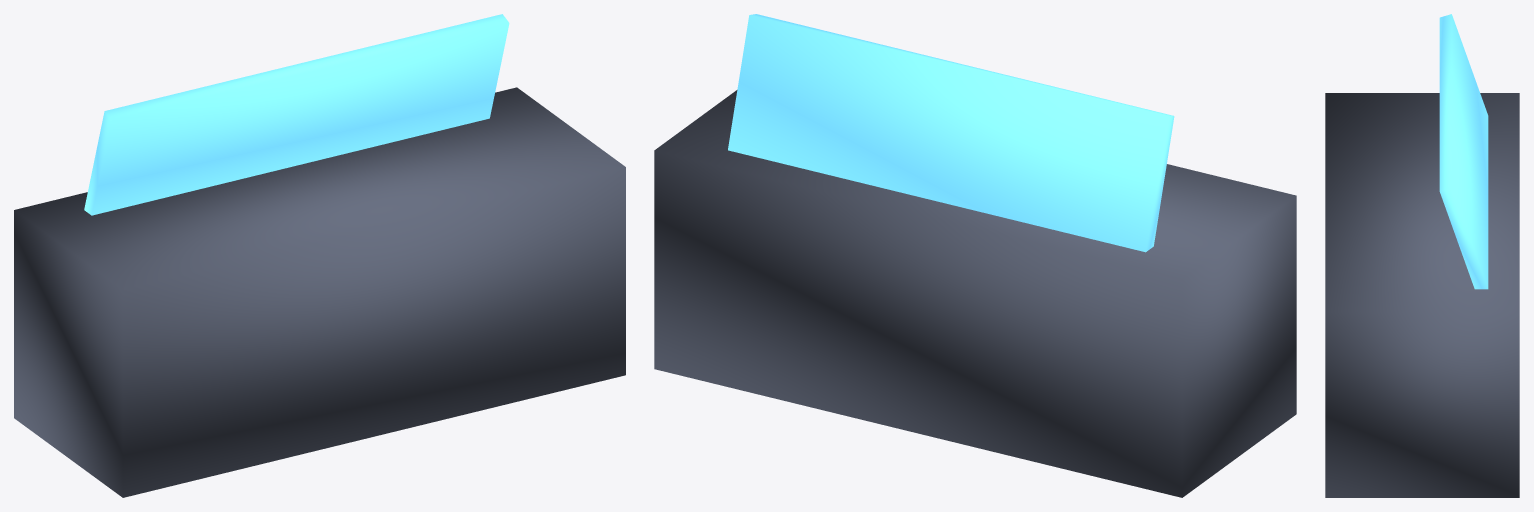
Rendered from reactor_console.glb.
3 renders of one model, left to right at view 1: azimuth 30°, elevation 25°; view 2: azimuth 150°, elevation 25°; view 3: azimuth 270°, elevation 25°, orthographic. The views are drawn at different scales.
Visible parts, largest first — view 1: Reactor_Console, CQ_Prop_Reactor_TerminalScreen; view 2: Reactor_Console, CQ_Prop_Reactor_TerminalScreen; view 3: Reactor_Console, CQ_Prop_Reactor_TerminalScreen.
Boxes of the visible parts, left/top/right/bottom form: Reactor_Console: left=14, top=87, right=625, bottom=497; CQ_Prop_Reactor_TerminalScreen: left=84, top=14, right=509, bottom=215; Reactor_Console: left=654, top=90, right=1296, bottom=497; CQ_Prop_Reactor_TerminalScreen: left=728, top=14, right=1174, bottom=252; Reactor_Console: left=1325, top=93, right=1519, bottom=497; CQ_Prop_Reactor_TerminalScreen: left=1439, top=14, right=1488, bottom=289.
Bounding box in the file's own units: 2.4 × 1.47 × 0.9.
